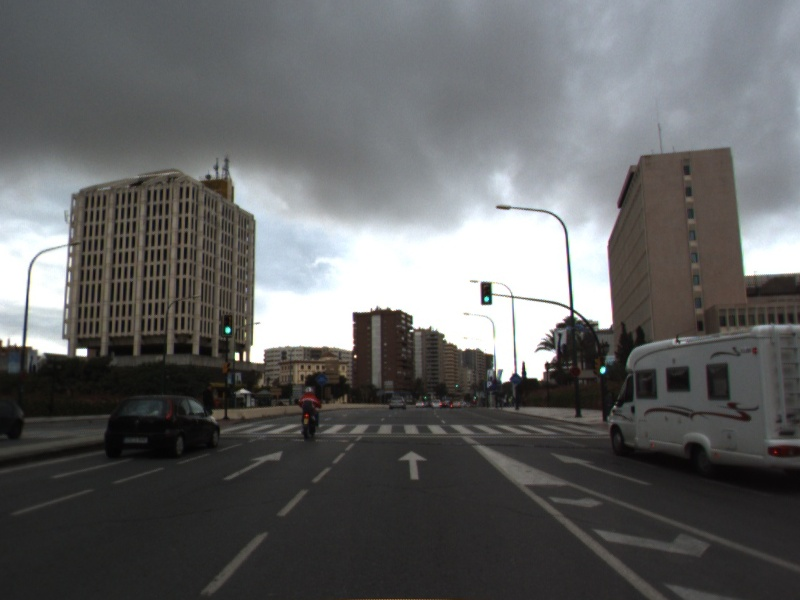STRAIGHT: (548, 450, 655, 488), (221, 448, 285, 482), (396, 449, 430, 482)
